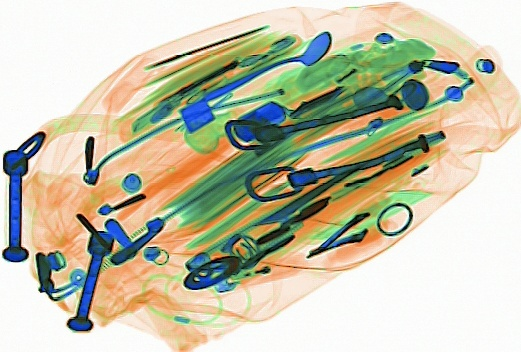lighter: (212, 251, 309, 295)
